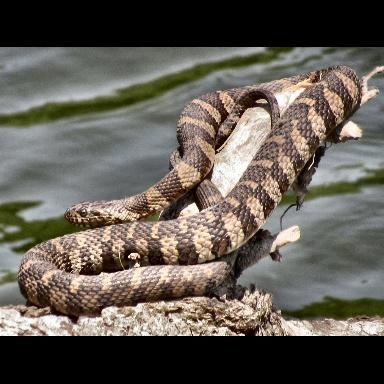snake: (17, 65, 379, 317)
